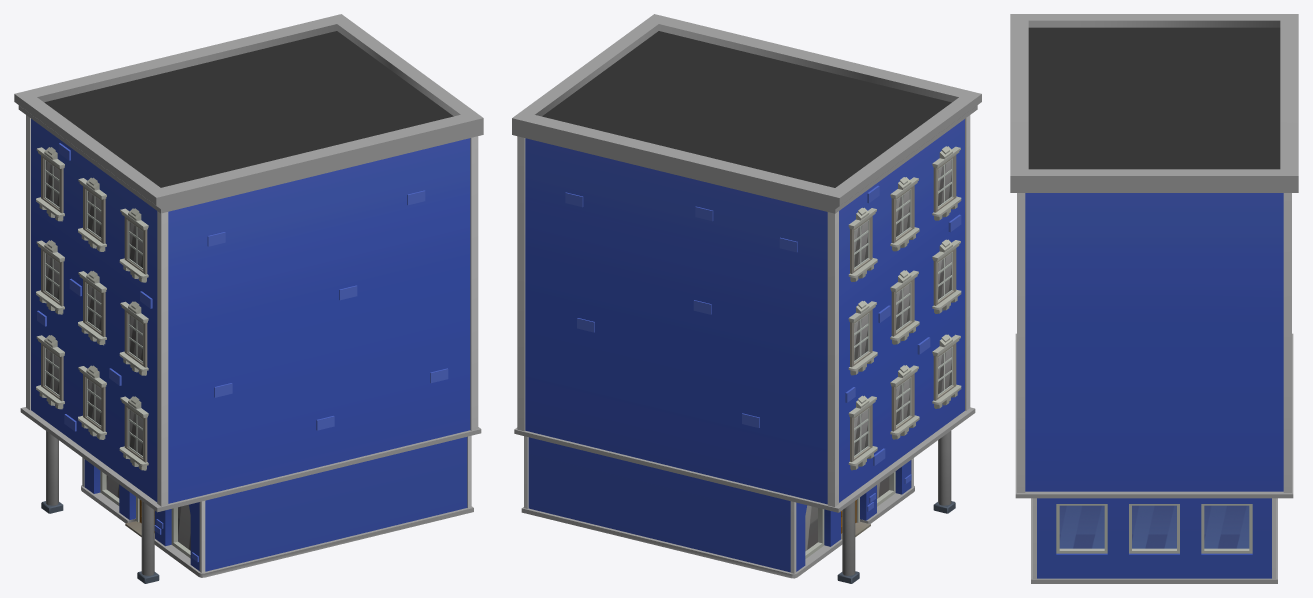
Rendered from Building_4_G.fbx.
3 renders of one model, left to right at view 1: azimuth 30°, elevation 25°; view 2: azimuth 150°, elevation 25°; view 3: azimuth 270°, elevation 25°, orthographic.
Parts seen in each view (by area): view 1: Building_4_G; view 2: Building_4_G; view 3: Building_4_G.
Part boxes in pixels (x1,y1,x2,y2): Building_4_G: (14,14,483,583); Building_4_G: (512,14,981,583); Building_4_G: (1010,14,1298,583).
Bounding box in the file's own units: 1585 × 1855 × 1191.
